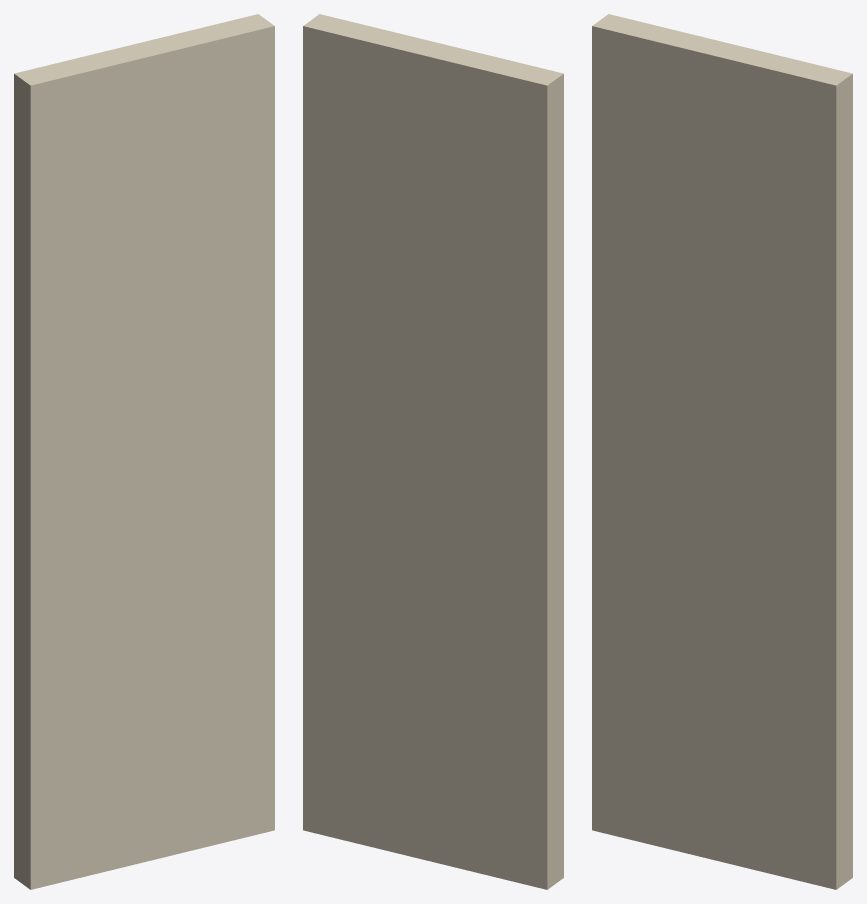
3 renders of one model, left to right at view 1: azimuth 30°, elevation 25°; view 2: azimuth 150°, elevation 25°; view 3: azimuth 330°, elevation 25°, orthographic.
Visible parts, largest first — view 1: B-FF-WALL-015; view 2: B-FF-WALL-015; view 3: B-FF-WALL-015.
Part boxes in pixels (x1,y1,x2,y2): B-FF-WALL-015: (14,14,274,889); B-FF-WALL-015: (303,14,563,889); B-FF-WALL-015: (592,14,852,889).
Bounding box in the file's own units: 0.769 × 2.42 × 0.09.
